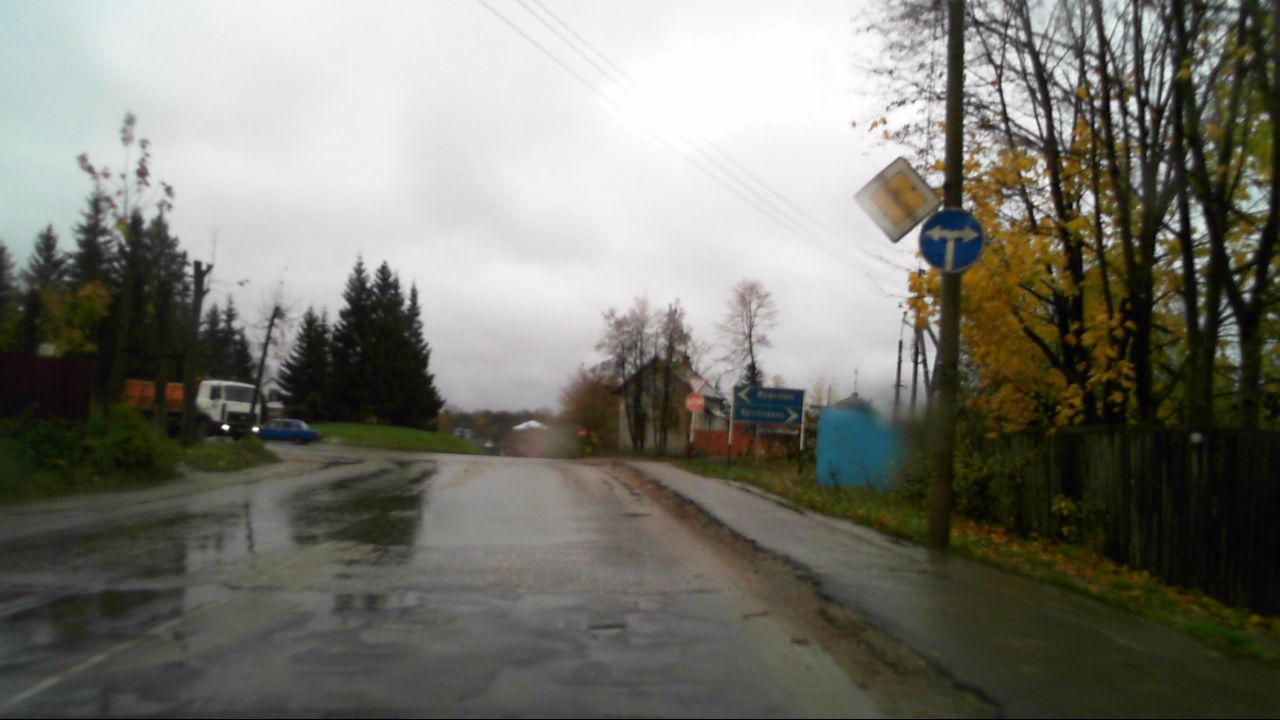main road: (854, 156, 941, 243)
